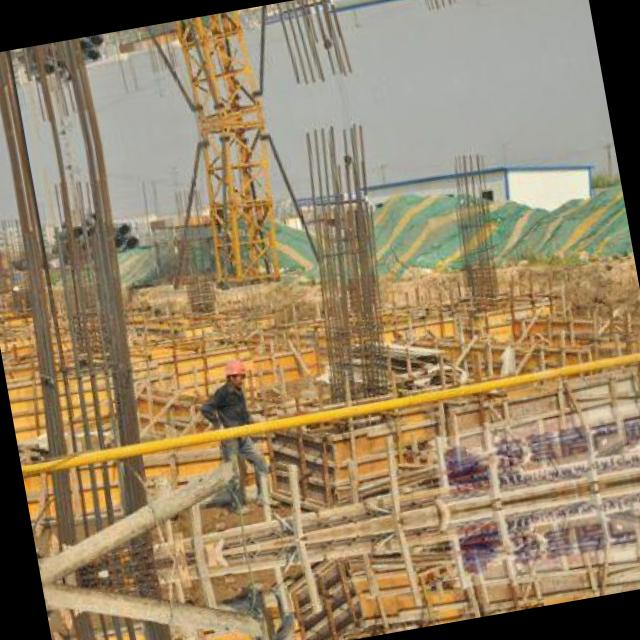helmet: (218, 354, 250, 389)
